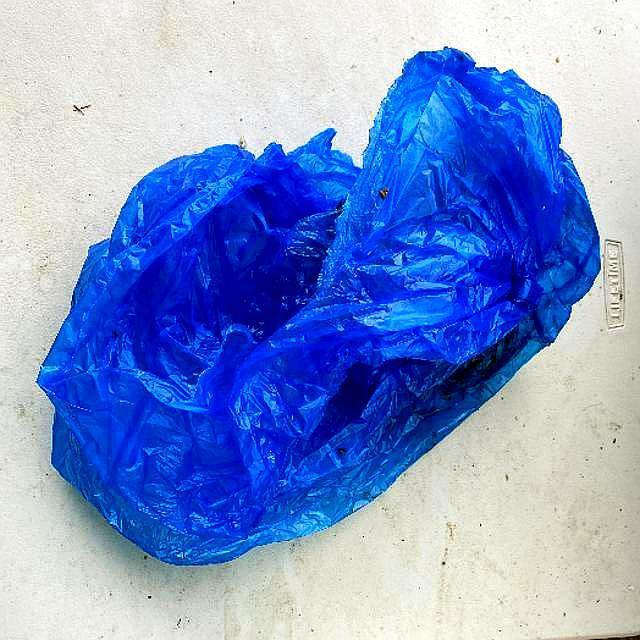Non-biodegradable: (35, 45, 604, 568)
